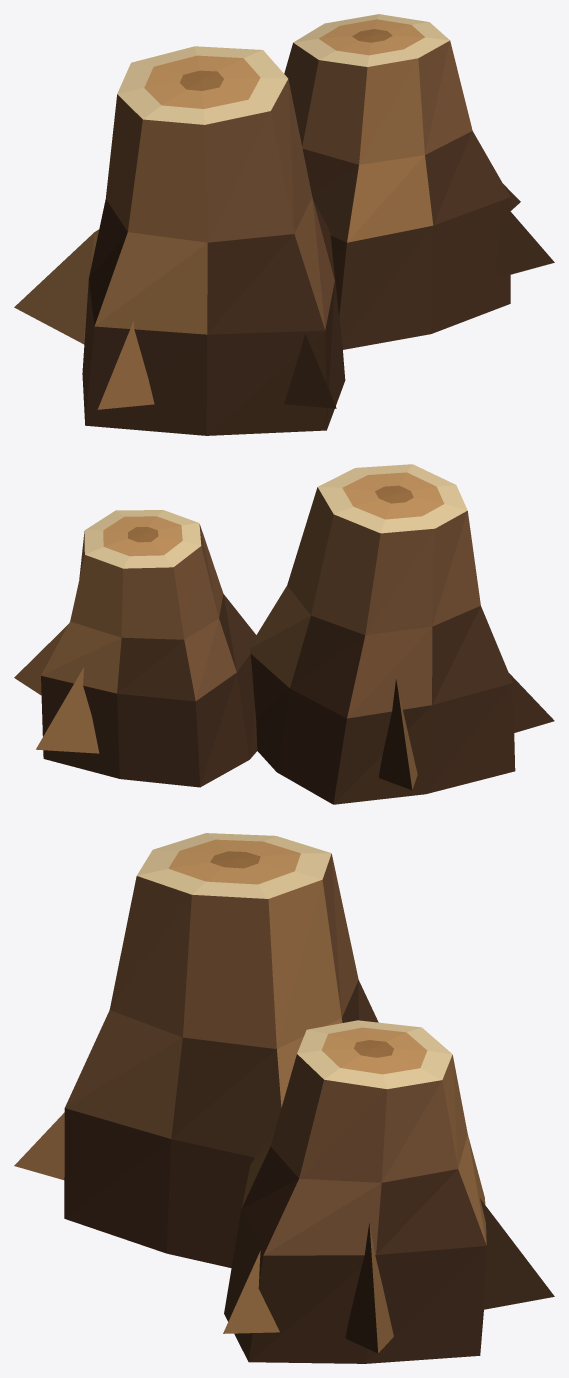
File: stump_cluster_small.glb
The picture shows the model from 3 angles, top to bottom: view 1: azimuth 30°, elevation 25°; view 2: azimuth 150°, elevation 25°; view 3: azimuth 270°, elevation 25°; orthographic projection. The views are drawn at different scales.
Parts seen in each view (by area): view 1: stump_cluster_small; view 2: stump_cluster_small; view 3: stump_cluster_small.
Part boxes in pixels (x1=…): stump_cluster_small: x1=14, y1=14, x2=554, y2=435; stump_cluster_small: x1=14, y1=464, x2=554, y2=804; stump_cluster_small: x1=14, y1=833, x2=554, y2=1363.
Size of the model in its own units: 1.33 by 0.7348 by 1.07.
